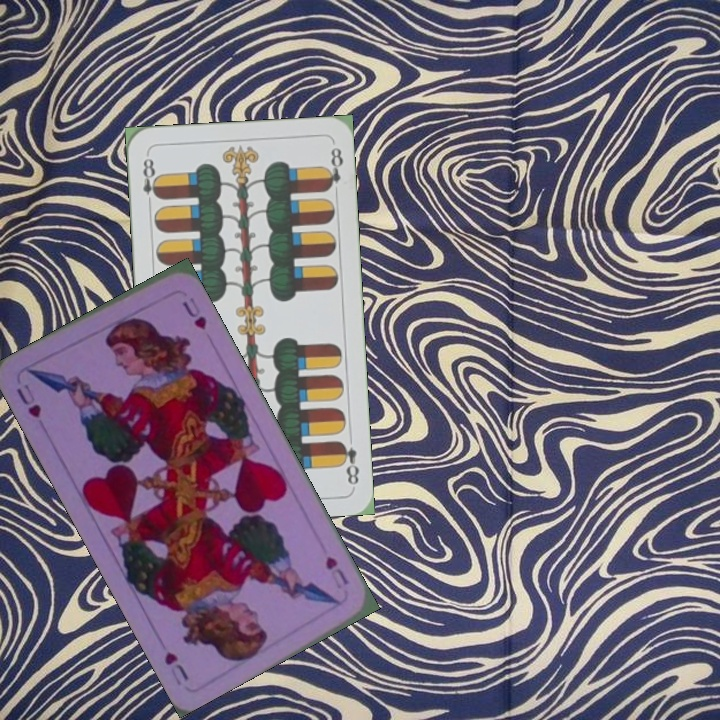E8: (139, 151, 163, 210), (335, 437, 362, 487)
HU: (12, 379, 44, 421), (321, 552, 351, 589)
